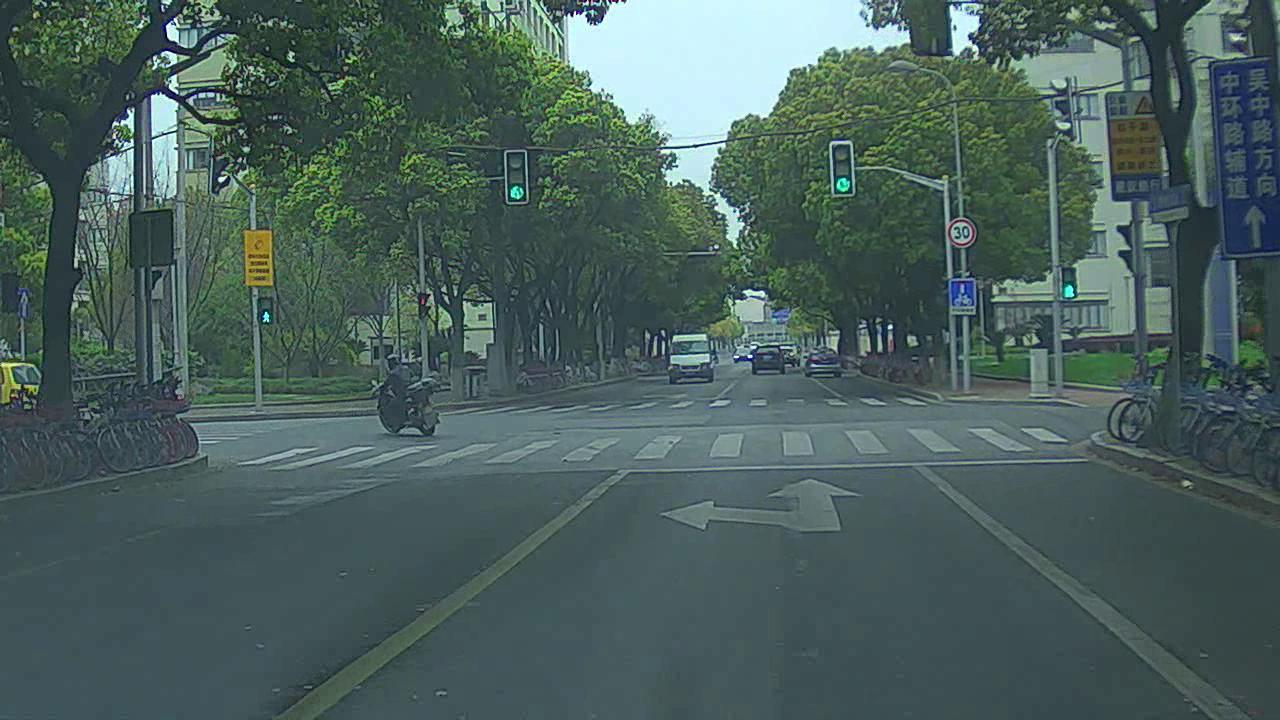traffic_light: (505, 150, 530, 202), (830, 144, 854, 195)
